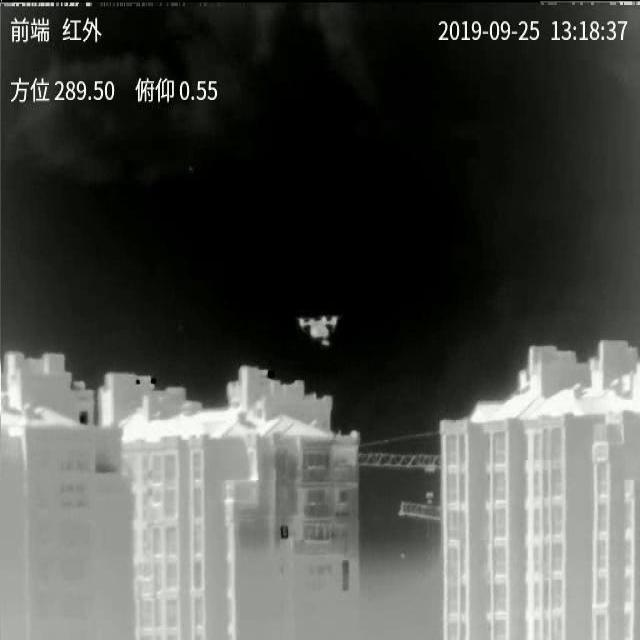drone: (298, 316, 338, 347)
